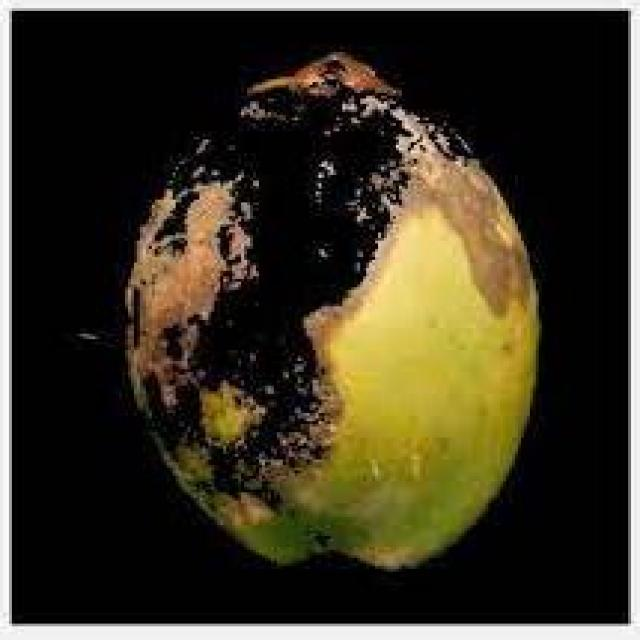damaged: (125, 52, 539, 566)
